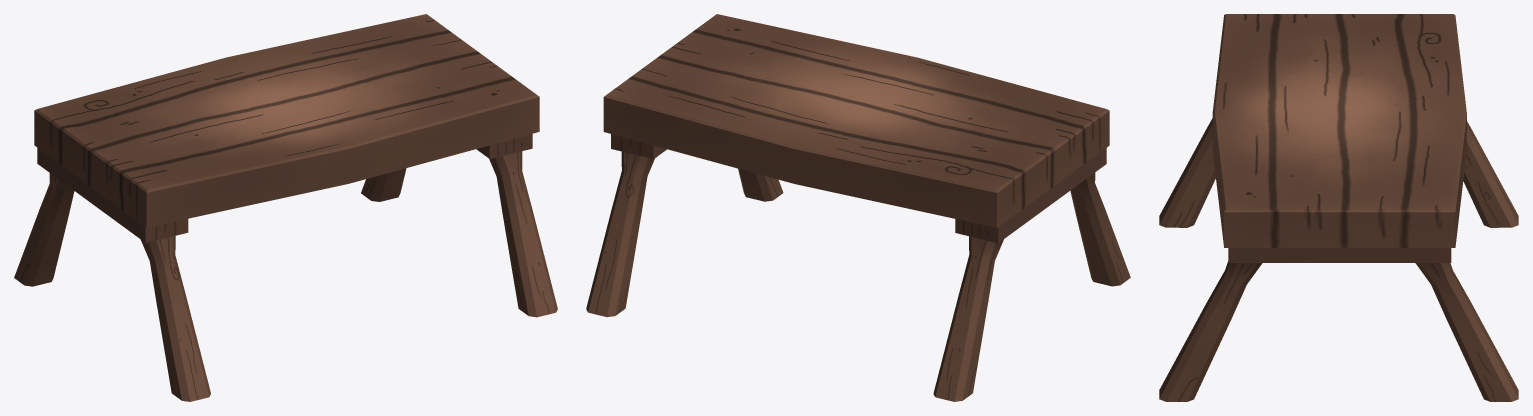
The model's file is workBench_mesh.fbx.
3 views of the same model, side by side, from view 1: azimuth 30°, elevation 25°; view 2: azimuth 150°, elevation 25°; view 3: azimuth 270°, elevation 25° (orthographic). The views are drawn at different scales.
Visible parts, largest first — view 1: workBench; view 2: workBench; view 3: workBench.
Part boxes in pixels (x1=…): workBench: x1=14, y1=14, x2=557, y2=401; workBench: x1=586, y1=14, x2=1130, y2=401; workBench: x1=1159, y1=14, x2=1518, y2=401.
Size of the model in its own units: 127 by 59.23 by 98.03.
